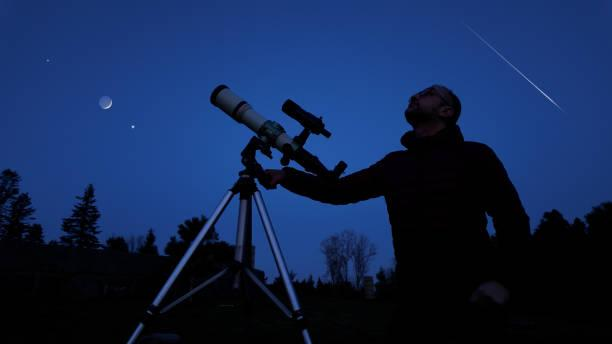meteor: (550, 96, 573, 116)
